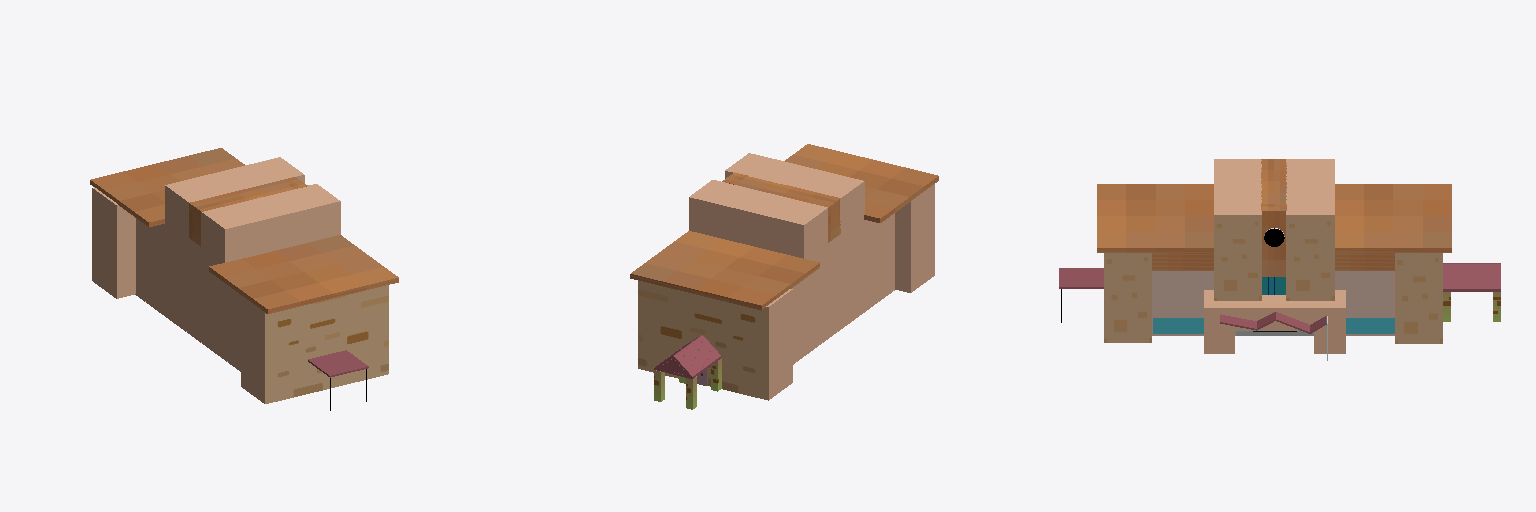
The picture shows the model from 3 angles: view 1: azimuth 30°, elevation 25°; view 2: azimuth 150°, elevation 25°; view 3: azimuth 270°, elevation 25°; orthographic projection.
Visible parts, largest first — view 1: pasted__pasted__pCube2 pasted__group5 group6, pasted__pCube1 group, pasted__pCube1 group4, group12 pasted__pasted__pasted__pasted__pCube2 pasted__pasted__p, pasted__pasted__pCube1 pasted__group4 group18, pasted__pCube2 group5, pasted__pasted__pasted__pCube2 pasted__pasted__group5 pasted__gr, group14 pasted__pasted__pasted__pasted__pCube2 pasted__pasted__p, pasted__pasted__pasted__pasted__pasted__pCube2 pasted__pasted__p, pCube9, pasted__pasted__pasted__pasted__pasted__pasted__pCube2 pasted__p; view 2: pasted__pCube2 group5, pasted__pCube1 group, pasted__pasted__pCube1 pasted__group4 group18, pasted__pasted__pasted__pCube2 pasted__pasted__group5 pasted__gr, pasted__pCube1 group4, pasted__pasted__pCube2 pasted__group5 group6, group12 pasted__pasted__pasted__pasted__pCube2 pasted__pasted__p, group14 pasted__pasted__pasted__pasted__pCube2 pasted__pasted__p, pasted__pasted__pasted__pasted__pasted__pasted__pCube2 pasted__p, pasted__pasted__pasted__pasted__pasted__pCube2 pasted__pasted__p; view 3: pasted__pasted__pCube1 pasted__group4 group18, pasted__pCube1 group4, pasted__pasted__pasted__pasted__pasted__pCube2 pasted__pasted__p, pasted__pasted__pCube1 pasted__group group1, pasted__pasted__pasted__pasted__pasted__pasted__pCube2 pasted__p, pasted__pCube2 group5, pasted__pasted__pCube2 pasted__group5 group6, pasted__pasted__pasted__pCube2 pasted__pasted__group5 pasted__gr, group12 pasted__pasted__pasted__pasted__pCube2 pasted__pasted__p, pasted__pasted__pasted__pCube2 pasted__pasted__group19 pasted__g, pasted__pCube2 group19, pasted__pasted__pCube2 pasted__group19 group20 (+3 smaller).
Part boxes in pixels (x1,y1,x2,y2): pasted__pasted__pCube2 pasted__group5 group6: (241, 285, 388, 403); pasted__pCube1 group: (136, 218, 240, 370); pasted__pCube1 group4: (209, 235, 398, 313); group12 pasted__pasted__pasted__pasted__pCube2 pasted__pasted__p: (201, 189, 318, 262); pasted__pasted__pCube1 pasted__group4 group18: (90, 148, 244, 226); pasted__pCube2 group5: (92, 187, 135, 298); pasted__pasted__pasted__pCube2 pasted__pasted__group5 pasted__gr: (165, 163, 281, 237); group14 pasted__pasted__pasted__pasted__pCube2 pasted__pasted__p: (189, 180, 293, 246); pasted__pasted__pasted__pasted__pasted__pCube2 pasted__pasted__p: (283, 177, 340, 239); pCube9: (308, 350, 368, 377); pasted__pasted__pasted__pasted__pasted__pasted__pCube2 pasted__p: (258, 157, 304, 182); pasted__pCube2 group5: (638, 280, 792, 400); pasted__pCube1 group: (792, 213, 894, 363); pasted__pasted__pCube1 pasted__group4 group18: (630, 231, 819, 310); pasted__pasted__pasted__pCube2 pasted__pasted__group5 pasted__gr: (711, 185, 827, 258); pasted__pCube1 group4: (785, 144, 938, 222); pasted__pasted__pCube2 pasted__group5 group6: (895, 184, 934, 292); group12 pasted__pasted__pasted__pasted__pCube2 pasted__pasted__p: (748, 158, 864, 232); group14 pasted__pasted__pasted__pasted__pCube2 pasted__pasted__p: (736, 176, 840, 242); pasted__pasted__pasted__pasted__pasted__pasted__pCube2 pasted__p: (689, 180, 733, 235); pasted__pasted__pasted__pasted__pasted__pCube2 pasted__pasted__p: (722, 153, 770, 184); pasted__pasted__pCube1 pasted__group4 group18: (1335, 184, 1451, 252); pasted__pCube1 group4: (1097, 184, 1213, 252); pasted__pasted__pasted__pasted__pasted__pCube2 pasted__pasted__p: (1165, 204, 1286, 333); pasted__pasted__pCube1 pasted__group group1: (1152, 271, 1393, 335); pasted__pasted__pasted__pasted__pasted__pasted__pCube2 pasted__p: (1262, 204, 1334, 300); pasted__pCube2 group5: (1395, 253, 1442, 343); pasted__pasted__pCube2 pasted__group5 group6: (1104, 253, 1151, 342); pasted__pasted__pasted__pCube2 pasted__pasted__group5 pasted__gr: (1286, 159, 1334, 203); group12 pasted__pasted__pasted__pasted__pCube2 pasted__pasted__p: (1214, 159, 1261, 203); pasted__pasted__pasted__pCube2 pasted__pasted__group19 pasted__g: (1235, 295, 1313, 330); pasted__pCube2 group19: (1314, 290, 1345, 353); pasted__pasted__pCube2 pasted__group19 group20: (1204, 290, 1234, 353).
Bounding box in the file's own units: 10.48 × 8.1 × 24.43.
Materials: 52 (20 with a texture image).